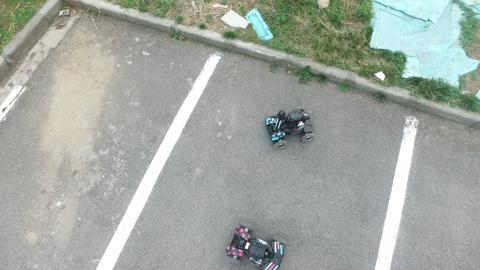chariot: (216, 219, 291, 270), (257, 103, 320, 152)
